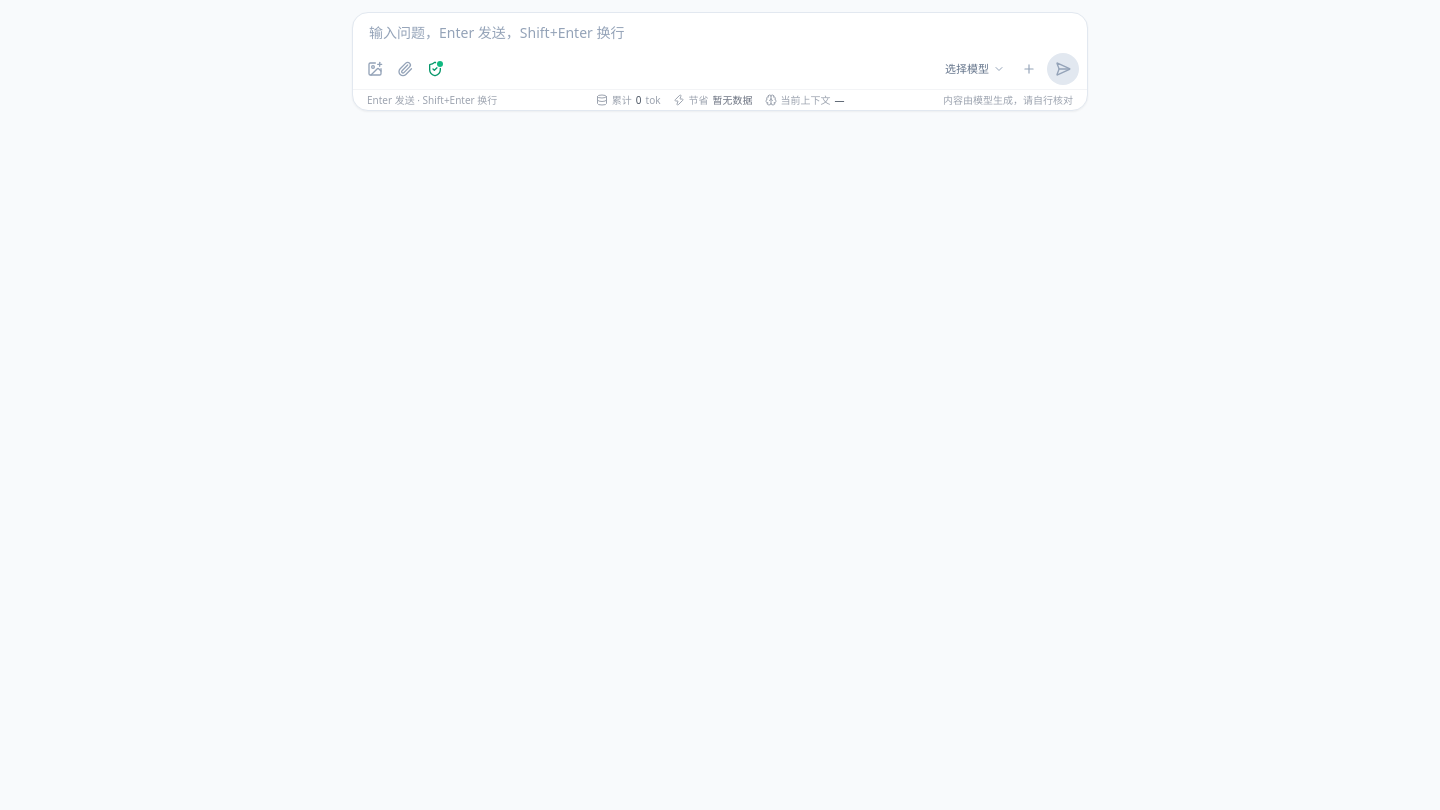
Test case: 目录选择器（点击浏览代替手打路径） › 点文件夹图标打开选择器，显示盘符列表
Click the button with test id "sandbox-badge" at (435, 69), box [421,55,449,83]
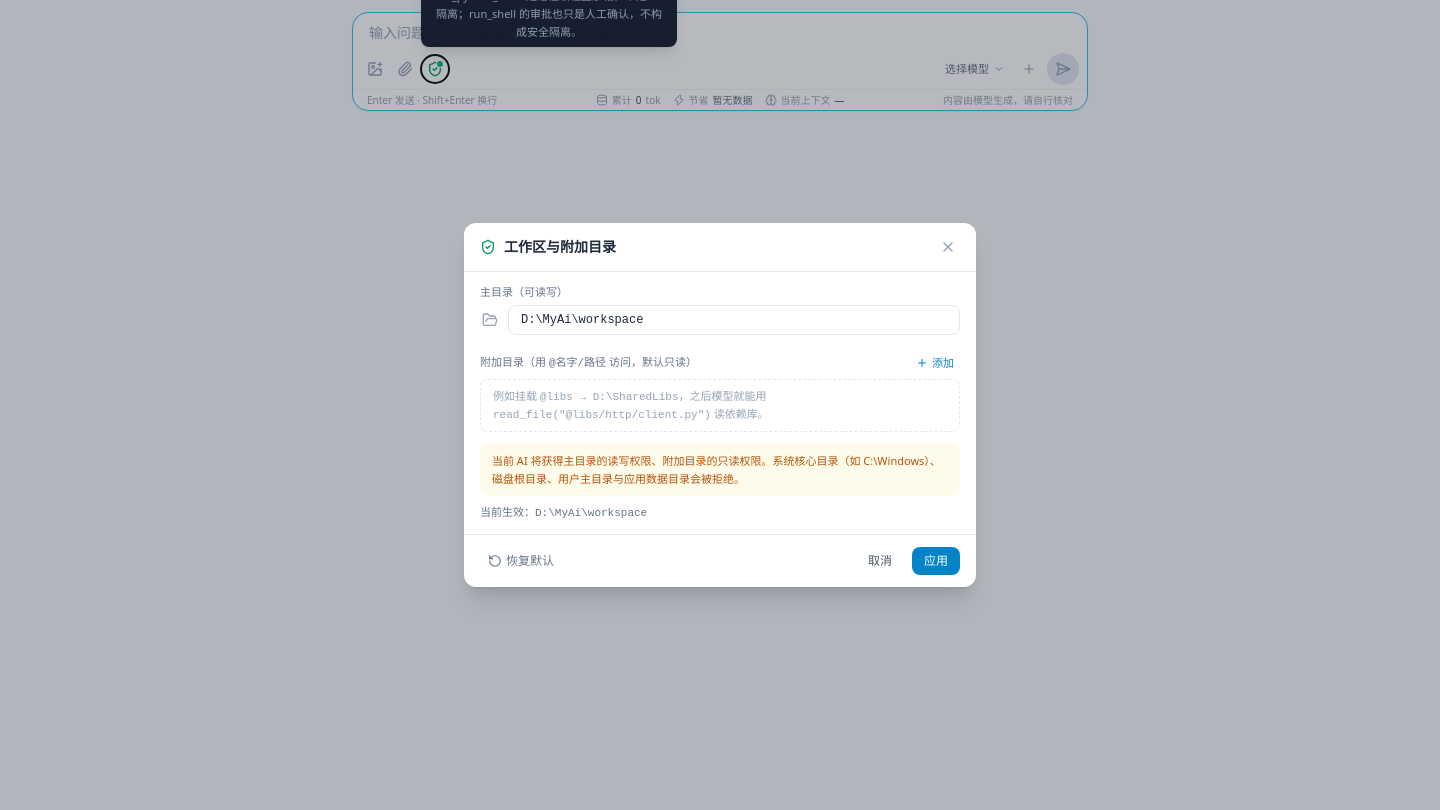
Click the button named "浏览选择主目录" at (490, 320), box [480,310,500,330]
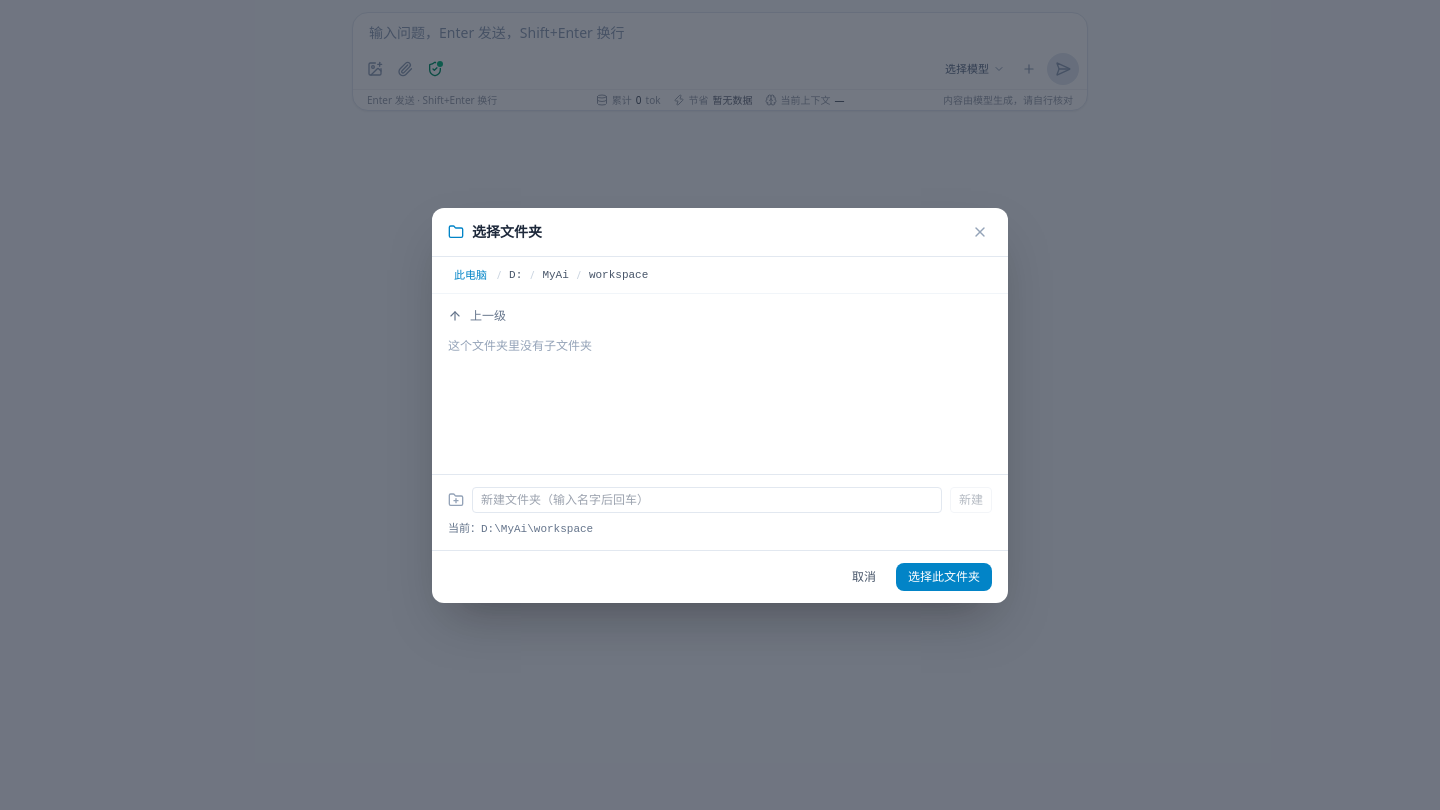
Expected: the dialog "选择文件夹" is shown, [432,208,1008,602]
Click the button "此电脑" at (470, 275), box [448,264,493,285]
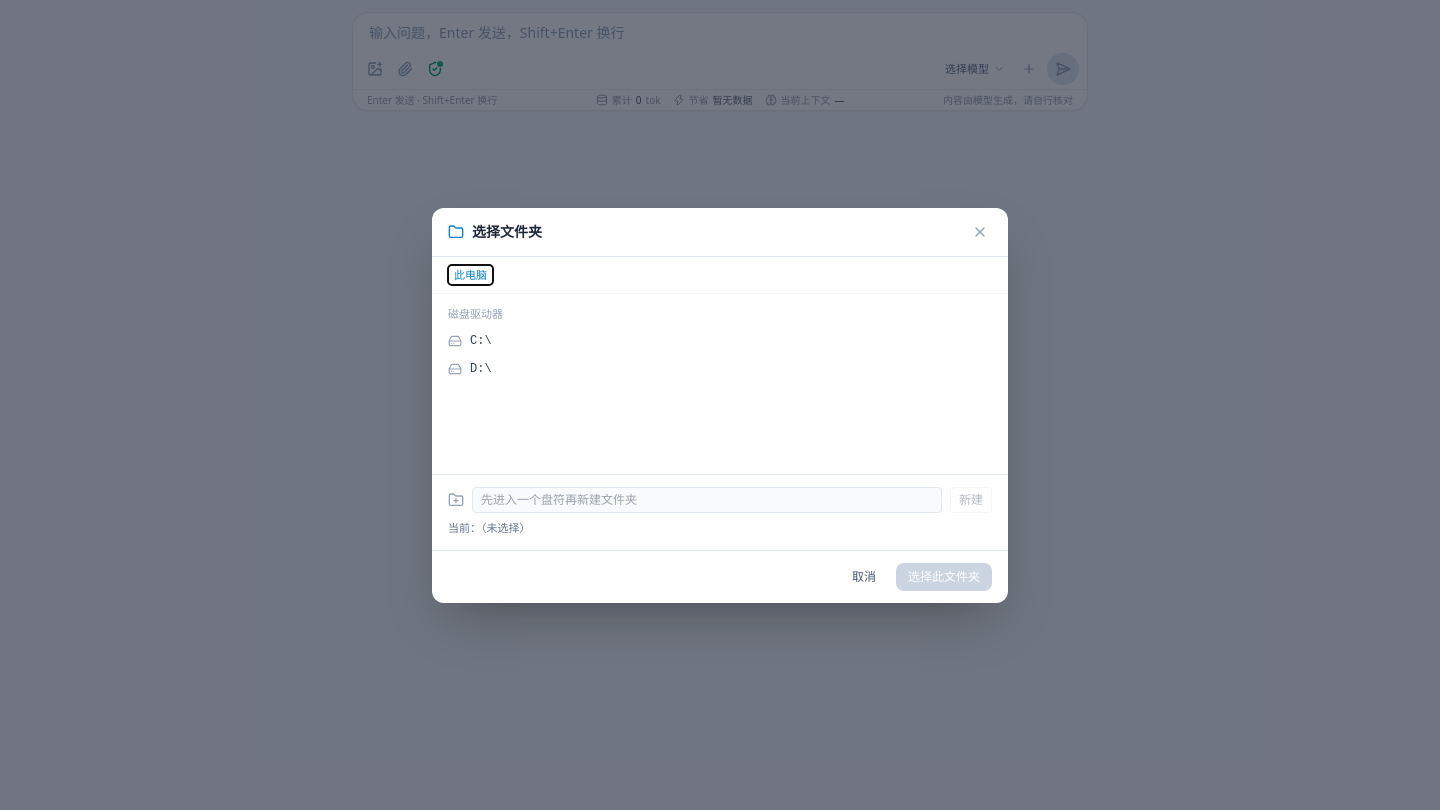
Expected: the text "D:\\" is shown, [470,360,492,376]
Expected: the text "C:\\" is shown, [470,332,492,348]
